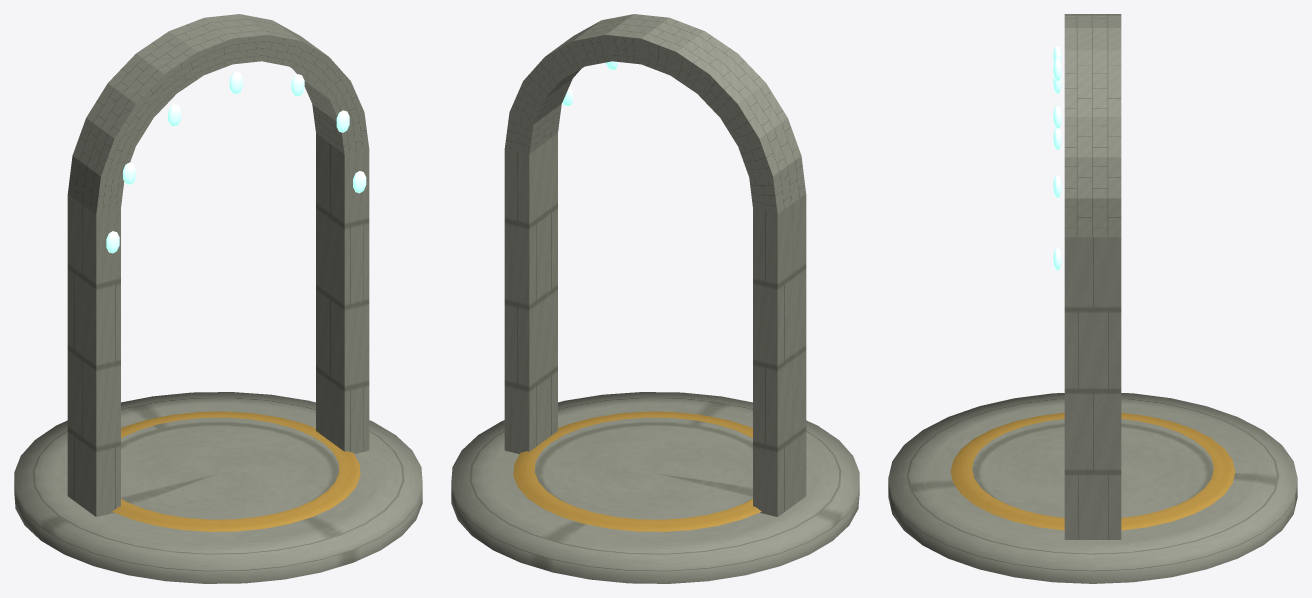
The model's file is warp.glb.
The picture shows the model from 3 angles, left to right: view 1: azimuth 30°, elevation 25°; view 2: azimuth 150°, elevation 25°; view 3: azimuth 270°, elevation 25°; orthographic projection.
Parts seen in each view (by area): view 1: warp; view 2: warp; view 3: warp.
Boxes of the visible parts, <box> form: warp: <box>14,14,422,583</box>; warp: <box>451,14,859,583</box>; warp: <box>888,14,1297,583</box>.
Size of the model in its own units: 2.3 by 2.91 by 2.3.
Materials: 3 (3 with a texture image).
